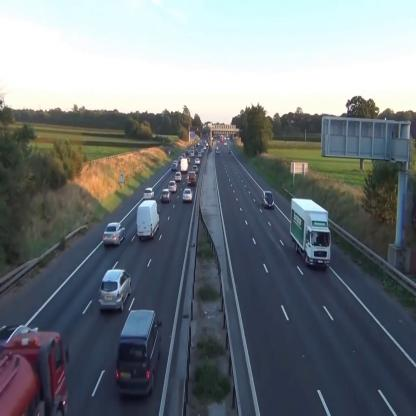car: (99, 269, 132, 311), (103, 222, 126, 247), (262, 191, 275, 208), (183, 188, 193, 201), (162, 189, 171, 202), (144, 188, 154, 199), (169, 181, 177, 192), (188, 172, 196, 183), (175, 172, 182, 180), (192, 165, 198, 173), (171, 164, 177, 171)
lorry: (0, 325, 69, 416), (117, 309, 162, 397), (290, 198, 331, 270), (136, 198, 160, 239), (180, 158, 188, 171)
